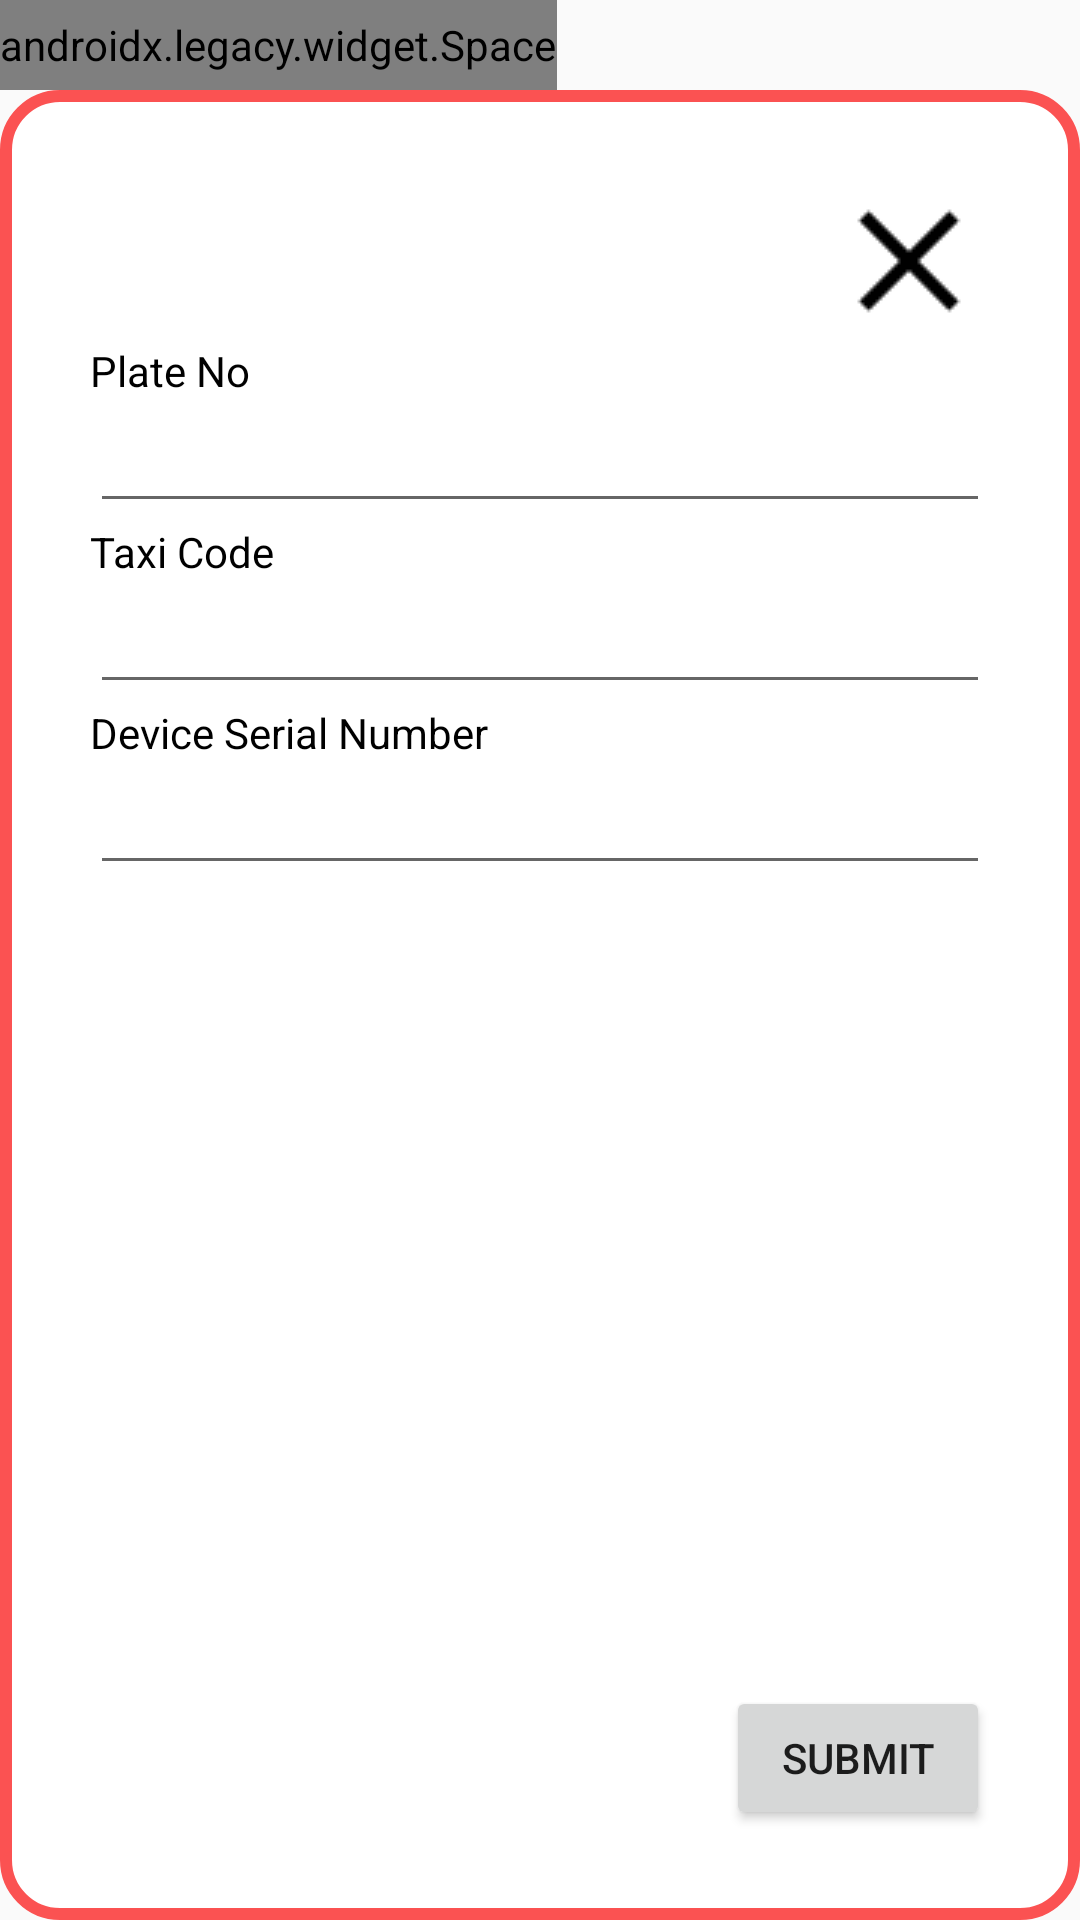

Named icons in this screenshot (1080 × 1920) and their centers, point (x, y):
close: point (909, 261)
